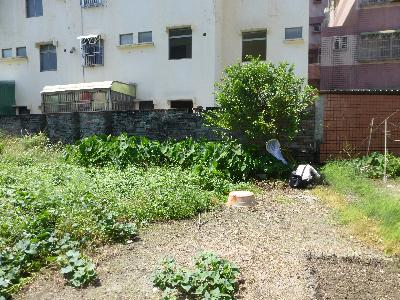bowl: (224, 189, 259, 210)
